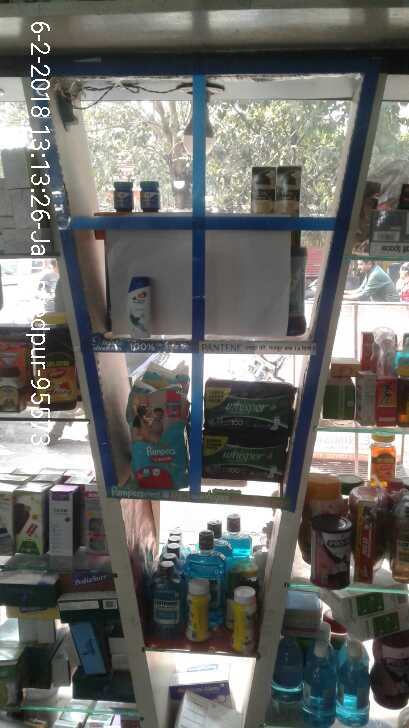oralcare: (146, 531, 188, 631), (203, 516, 229, 629)
vicks: (90, 173, 170, 229)
